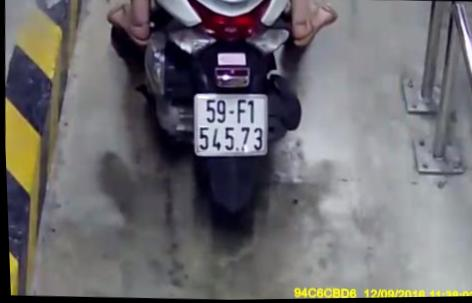LP: (185, 82, 276, 165)
